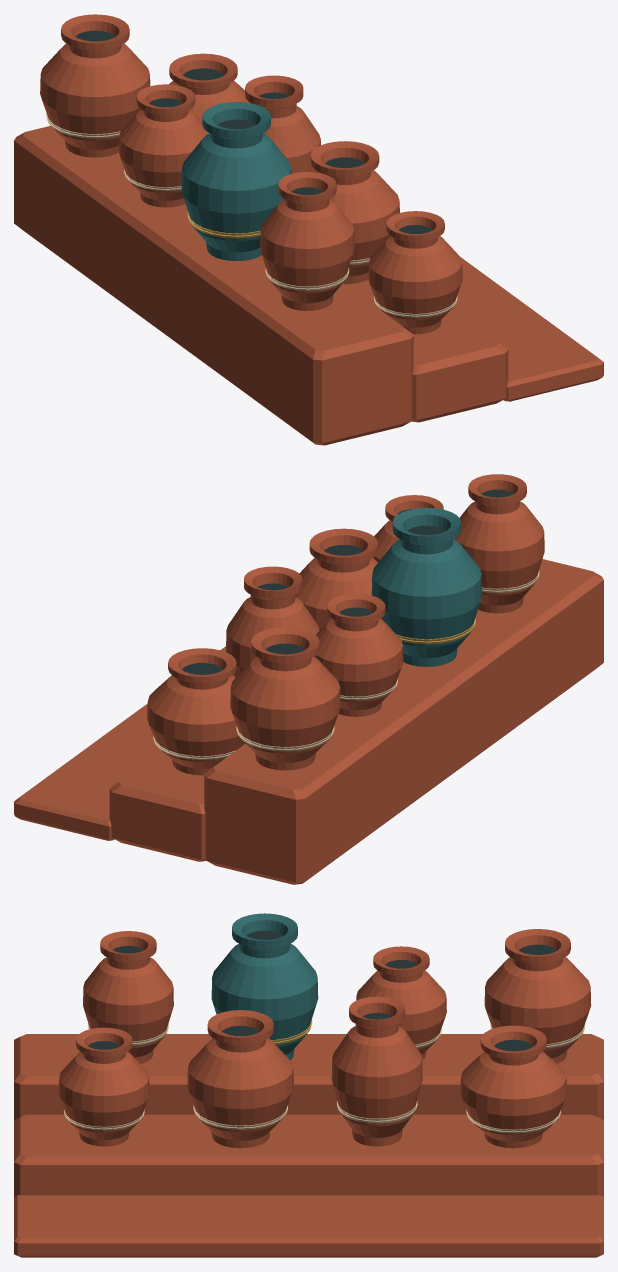
Rendered from room-steps_n.glb.
3 renders of one model, top to bottom at view 1: azimuth 30°, elevation 25°; view 2: azimuth 150°, elevation 25°; view 3: azimuth 270°, elevation 25°, orthographic. The views are drawn at different scales.
Parts seen in each view (by area): view 1: Jar Steps · throwing terrace · terracotta, Jar Steps · throwing terrace · teal, Jar Steps · throwing terrace · ink, Jar Steps · throwing terrace · limestone; view 2: Jar Steps · throwing terrace · terracotta, Jar Steps · throwing terrace · teal, Jar Steps · throwing terrace · ink, Jar Steps · throwing terrace · limestone; view 3: Jar Steps · throwing terrace · terracotta, Jar Steps · throwing terrace · teal, Jar Steps · throwing terrace · limestone, Jar Steps · throwing terrace · ink.
Boxes of the visible parts, box(x1,y1,x2,y2) form: Jar Steps · throwing terrace · terracotta: box(14, 14, 603, 445); Jar Steps · throwing terrace · teal: box(181, 102, 291, 260); Jar Steps · throwing terrace · ink: box(75, 30, 432, 233); Jar Steps · throwing terrace · limestone: box(46, 113, 457, 317); Jar Steps · throwing terrace · terracotta: box(14, 474, 603, 884); Jar Steps · throwing terrace · teal: box(371, 507, 481, 666); Jar Steps · throwing terrace · ink: box(182, 489, 513, 674); Jar Steps · throwing terrace · limestone: box(153, 570, 539, 759); Jar Steps · throwing terrace · terracotta: box(14, 929, 603, 1257); Jar Steps · throwing terrace · teal: box(211, 913, 318, 1060); Jar Steps · throwing terrace · limestone: box(64, 1024, 585, 1133); Jar Steps · throwing terrace · ink: box(88, 930, 556, 1051).
Size of what is drawn, in the model's own units: 2.27 by 1.7 by 4.15.
